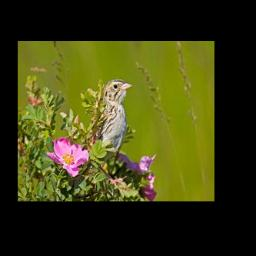Sparrow: (89, 75, 135, 168)
